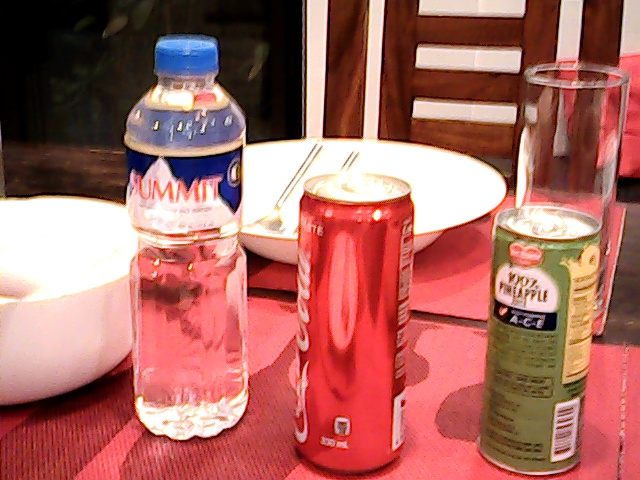Cola: (279, 169, 415, 474)
Pine Juice: (477, 187, 593, 479)
Summit Water: (113, 34, 255, 431)
